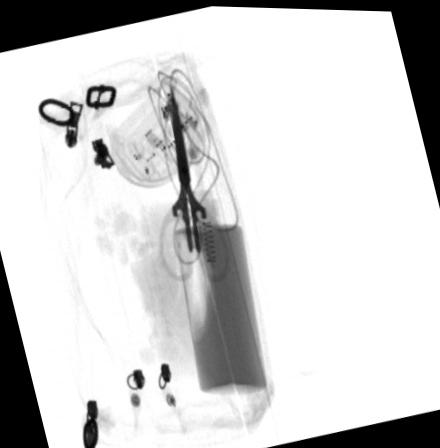Scissors: (155, 84, 230, 281)
